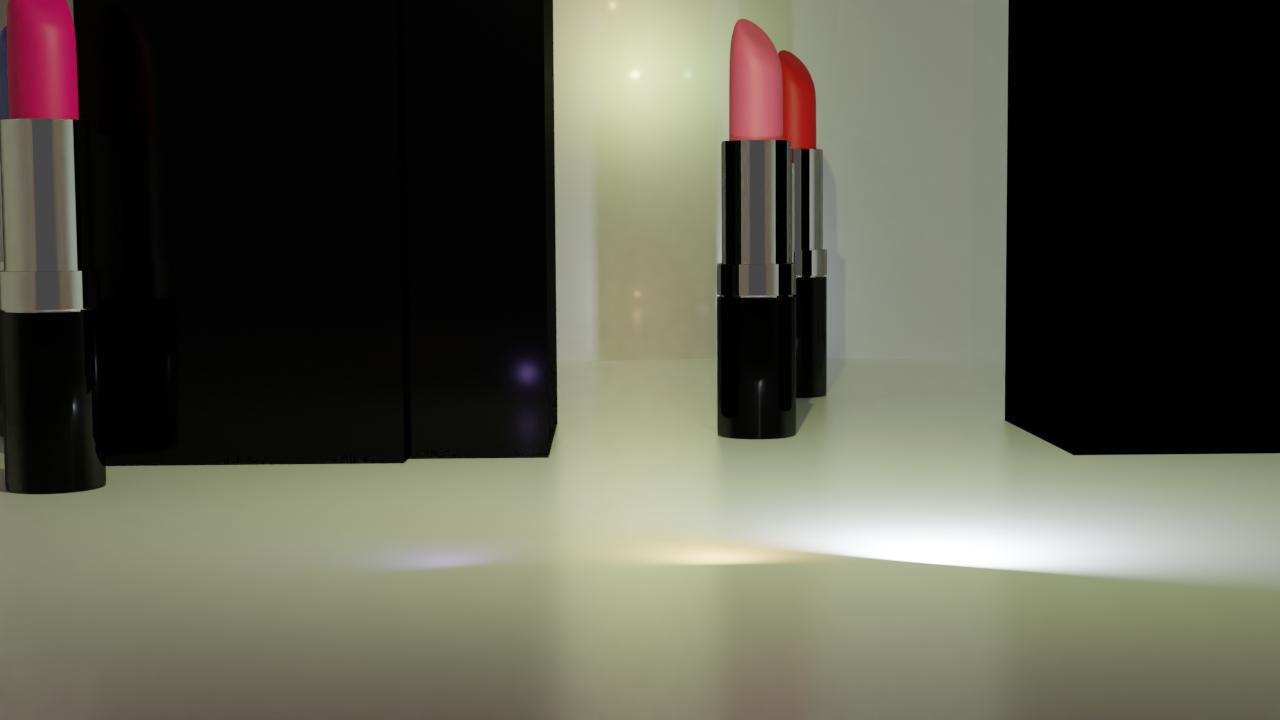CLASSIFIER_NAME: (0, 0, 109, 494), (716, 13, 798, 445)
